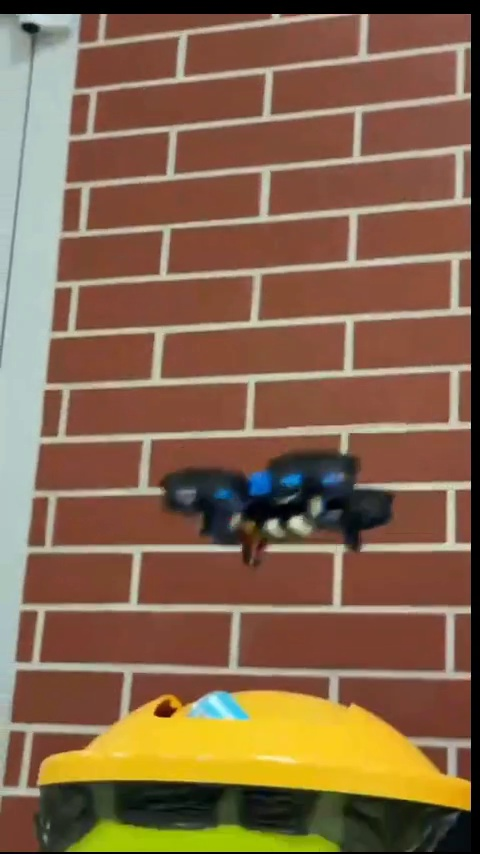drone: (157, 452, 399, 559)
